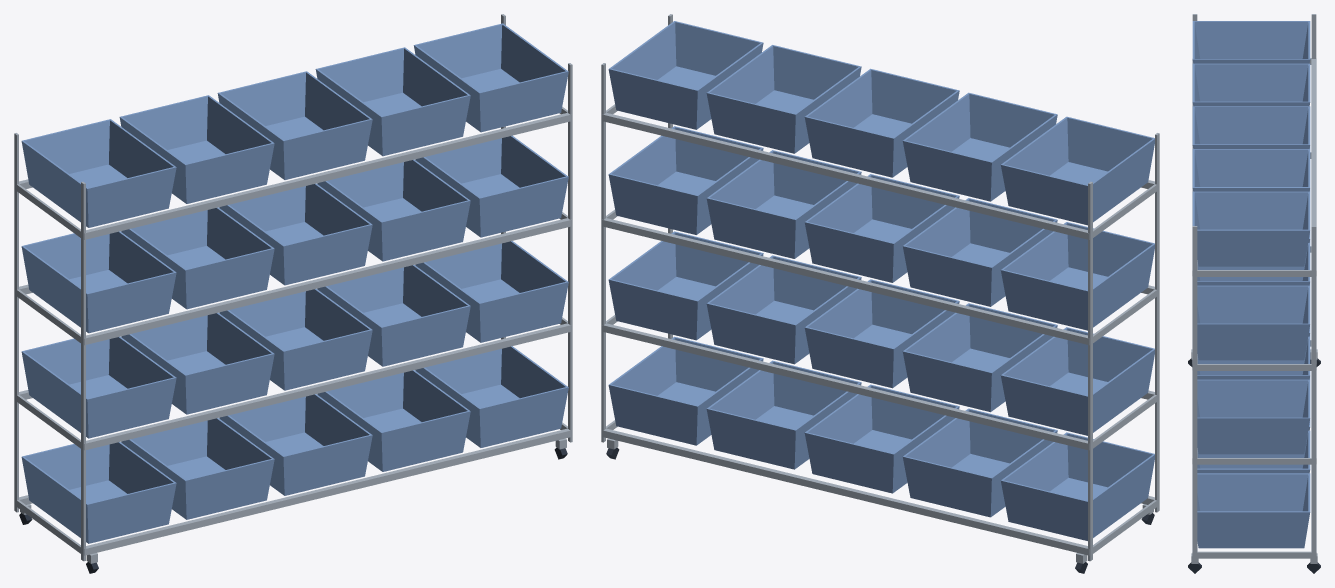
The model's file is SM_MPR_SorterSimCart120_3_LOD2.fbx.
The picture shows the model from 3 angles, left to right: view 1: azimuth 30°, elevation 25°; view 2: azimuth 150°, elevation 25°; view 3: azimuth 270°, elevation 25°; orthographic projection. The views are drawn at different scales.
Parts seen in each view (by area): view 1: SM_MPR_SorterSimCart120_3_LOD2; view 2: SM_MPR_SorterSimCart120_3_LOD2; view 3: SM_MPR_SorterSimCart120_3_LOD2.
Boxes of the visible parts, left/top/right/bottom form: SM_MPR_SorterSimCart120_3_LOD2: left=14, top=14, right=572, bottom=573; SM_MPR_SorterSimCart120_3_LOD2: left=601, top=14, right=1159, bottom=573; SM_MPR_SorterSimCart120_3_LOD2: left=1188, top=14, right=1320, bottom=573.
Size of the model in its own units: 216 by 57.1 by 166.
